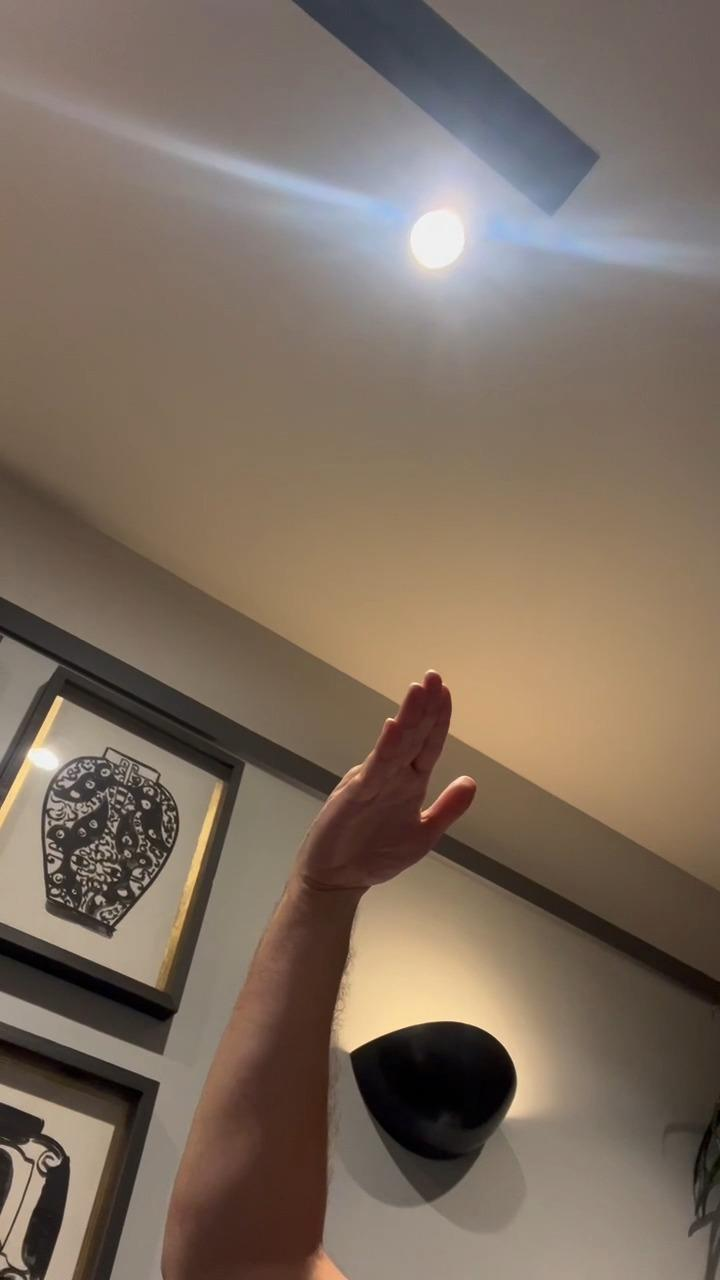Paper: (296, 664, 483, 898)
